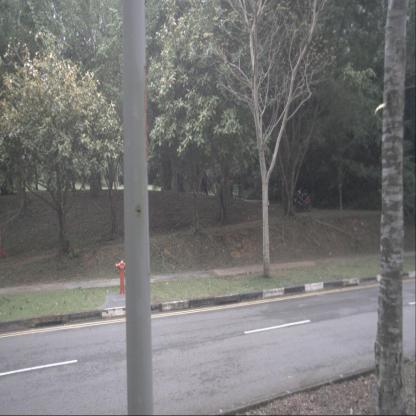vehicle-motorcycle: (294, 188, 312, 212)
